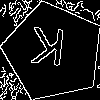K: (28, 26, 67, 76)
